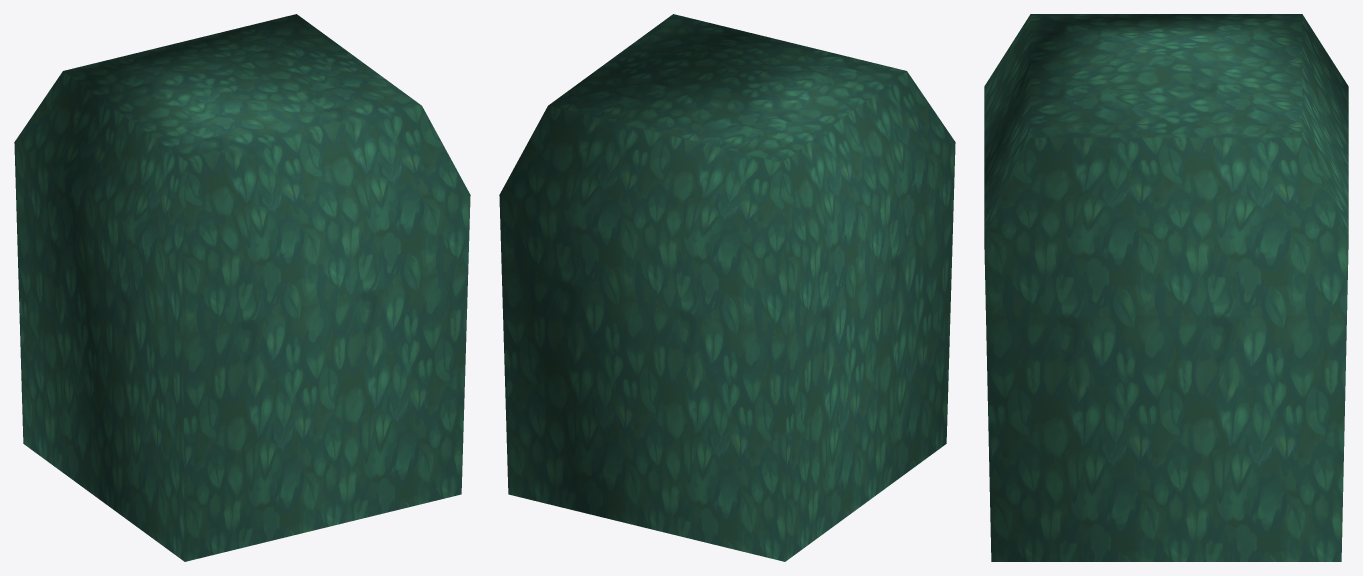
Rendered from Treetop_tall.fbx.
The picture shows the model from 3 angles, left to right: view 1: azimuth 30°, elevation 25°; view 2: azimuth 150°, elevation 25°; view 3: azimuth 270°, elevation 25°; orthographic projection. The views are drawn at different scales.
Visible parts, largest first — view 1: Treetop_Tall; view 2: Treetop_Tall; view 3: Treetop_Tall.
Boxes of the visible parts, box(x1,y1,x2,y2) form: Treetop_Tall: box(14, 14, 470, 561); Treetop_Tall: box(499, 14, 955, 561); Treetop_Tall: box(984, 14, 1348, 561).
Size of the model in its own units: 7.43 by 9.78 by 7.5.
